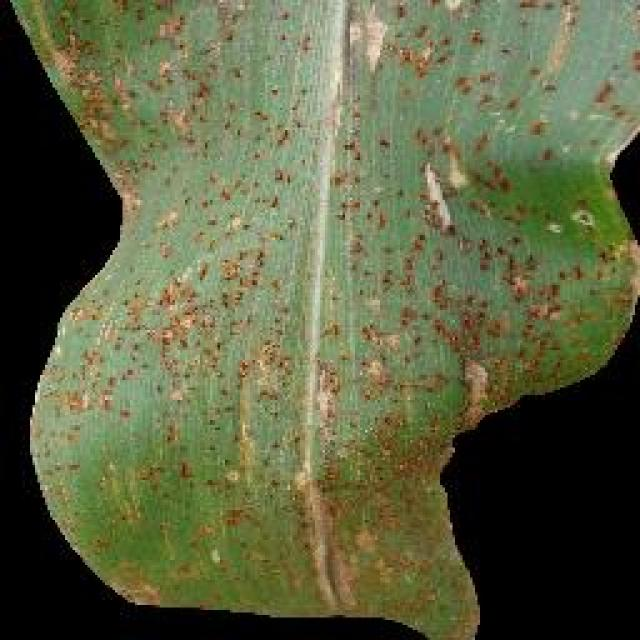Corn Common Rust: (85, 97, 608, 545)
